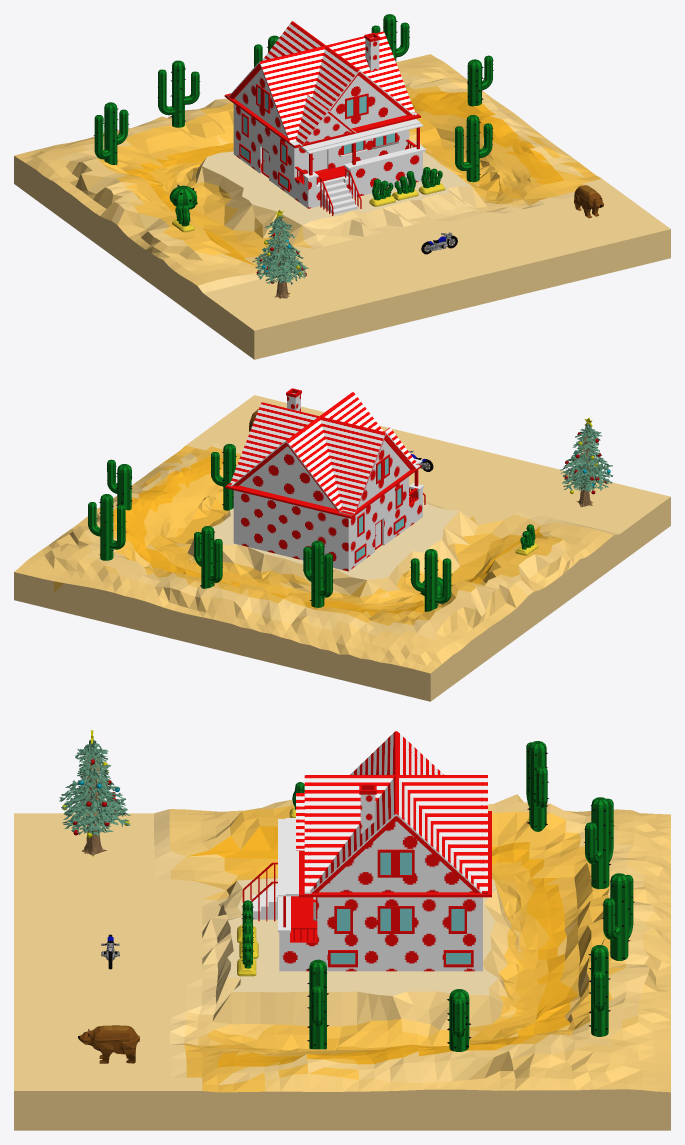
The picture shows the model from 3 angles, top to bottom: view 1: azimuth 30°, elevation 25°; view 2: azimuth 150°, elevation 25°; view 3: azimuth 270°, elevation 25°; orthographic projection. The views are drawn at different scales.
Visible parts, largest first — view 1: Cube.001, Cube.196, OBJRANDOM_CHRISTMAS_TREE, Cylinder.037, Cylinder.044, Cylinder.045, Cylinder.038, Cylinder.042, ANIMAL_OSO, Cylinder.039, Cylinder.041, Sphere.023 (+1 smaller); view 2: Cube.001, Cube.196, OBJRANDOM_CHRISTMAS_TREE, Cylinder.042, Cylinder.045, Cylinder.044, Cylinder.043, Cylinder.037, Cylinder.038; view 3: Cube.001, Cube.196, OBJRANDOM_CHRISTMAS_TREE, Cylinder.043, Cylinder.044, Cylinder.045, Cylinder.042, Cylinder.037, ANIMAL_OSO, Cylinder.038, Cylinder.041.
Boxes of the visible parts, left/top/right/bottom form: Cube.001: left=14, top=54, right=670, bottom=359; Cube.196: left=224, top=21, right=425, bottom=215; OBJRANDOM_CHRISTMAS_TREE: left=252, top=210, right=308, bottom=298; Cylinder.037: left=454, top=115, right=493, bottom=182; Cylinder.044: left=157, top=60, right=200, bottom=127; Cylinder.045: left=93, top=102, right=129, bottom=164; Cylinder.038: left=467, top=55, right=493, bottom=106; Cylinder.042: left=371, top=14, right=409, bottom=62; ANIMAL_OSO: left=574, top=185, right=603, bottom=218; Cylinder.039: left=369, top=179, right=395, bottom=206; Cylinder.041: left=418, top=167, right=445, bottom=194; Sphere.023: left=169, top=184, right=197, bottom=209; Cube.001: left=14, top=395, right=670, bottom=701; Cube.196: left=225, top=388, right=425, bottom=571; OBJRANDOM_CHRISTMAS_TREE: left=560, top=417, right=613, bottom=507; Cylinder.042: left=88, top=494, right=126, bottom=560; Cylinder.045: left=410, top=549, right=452, bottom=611; Cylinder.044: left=303, top=540, right=333, bottom=607; Cylinder.043: left=193, top=526, right=222, bottom=588; Cylinder.037: left=211, top=444, right=240, bottom=510; Cylinder.038: left=107, top=459, right=131, bottom=510; Cube.001: left=14, top=794, right=670, bottom=1130; Cube.196: left=242, top=731, right=491, bottom=971; OBJRANDOM_CHRISTMAS_TREE: left=59, top=730, right=130, bottom=856; Cylinder.043: left=602, top=873, right=634, bottom=960; Cylinder.044: left=584, top=797, right=614, bottom=888; Cylinder.045: left=526, top=741, right=548, bottom=831; Cylinder.042: left=588, top=945, right=610, bottom=1036; Cylinder.037: left=307, top=959, right=328, bottom=1049; ANIMAL_OSO: left=78, top=1025, right=139, bottom=1063; Cylinder.038: left=447, top=989, right=471, bottom=1051; Cylinder.041: left=237, top=933, right=256, bottom=976.
Size of the model in its own units: 4002 by 1600 by 4001.
27 materials, 3 textured.
